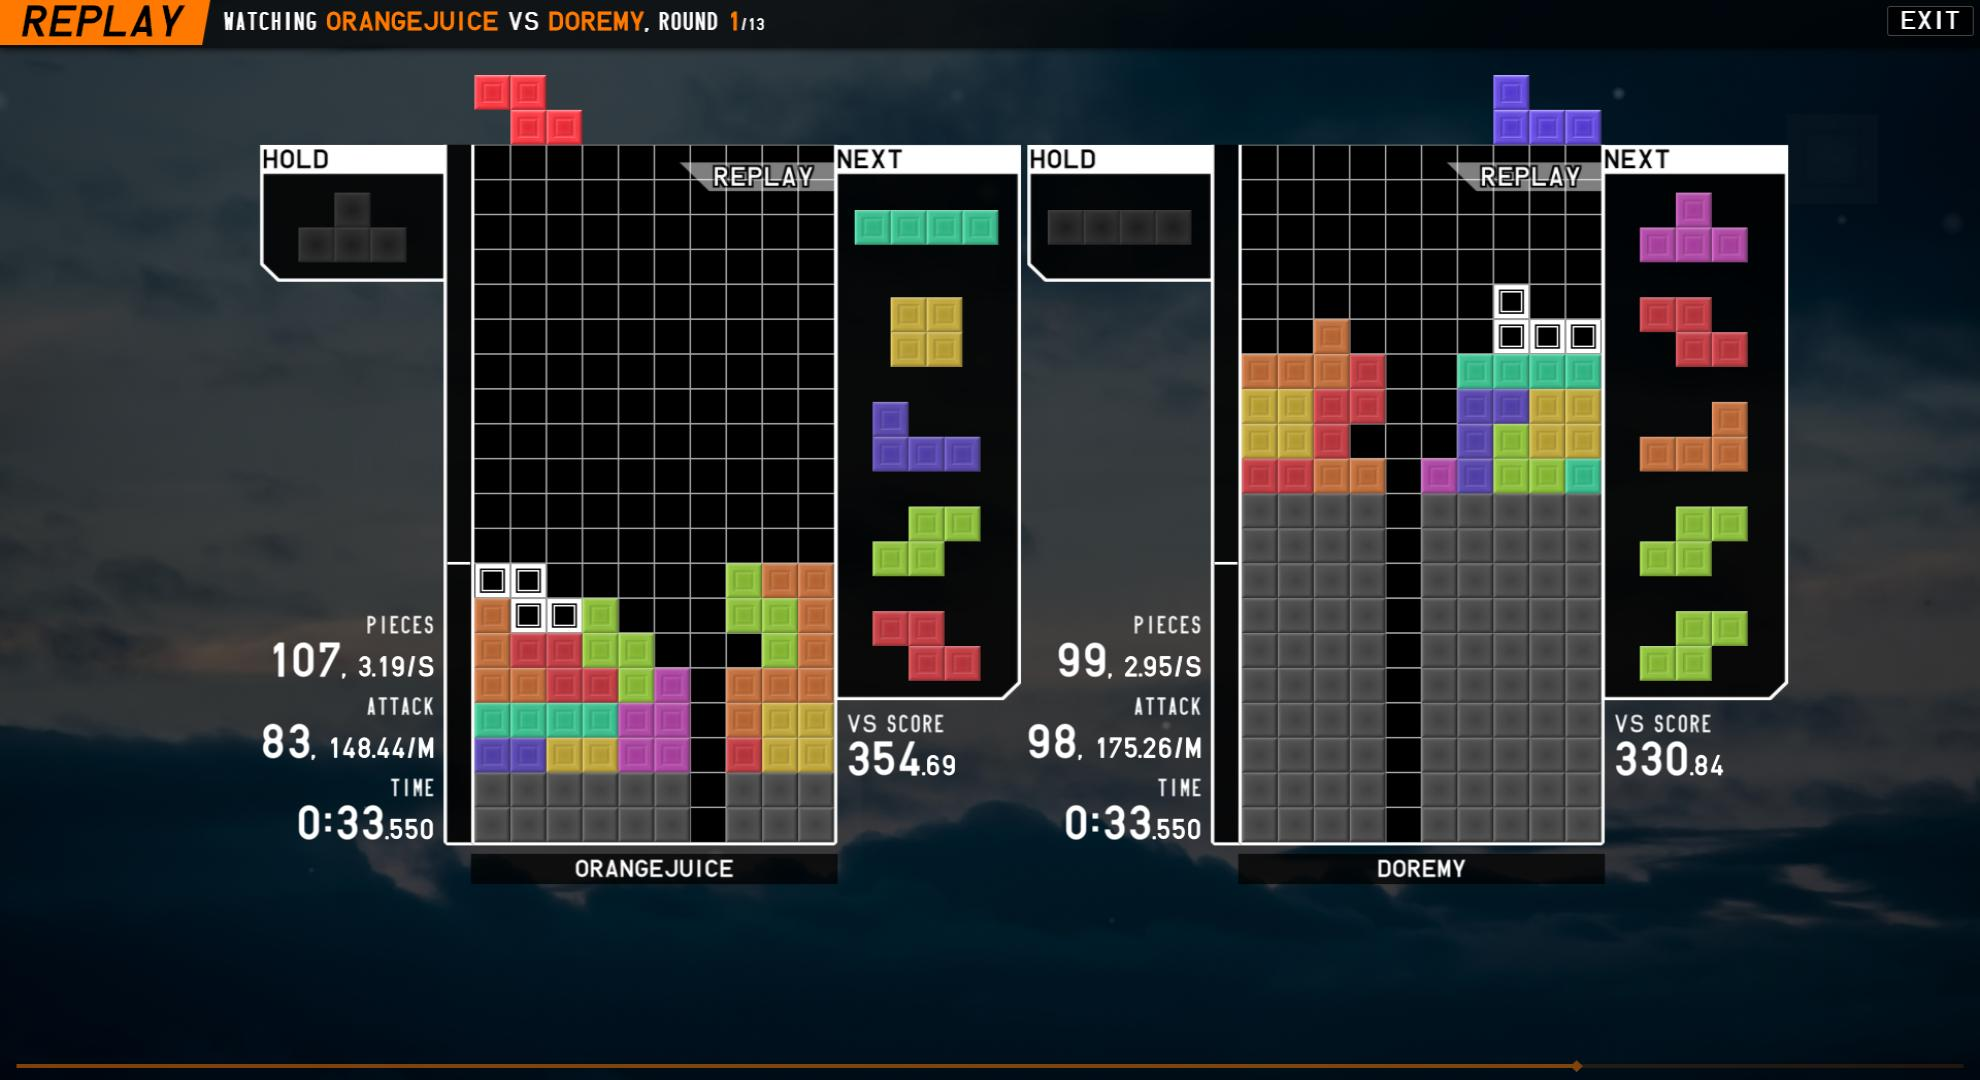tspin: (644, 592, 766, 701), (1348, 386, 1463, 501)
